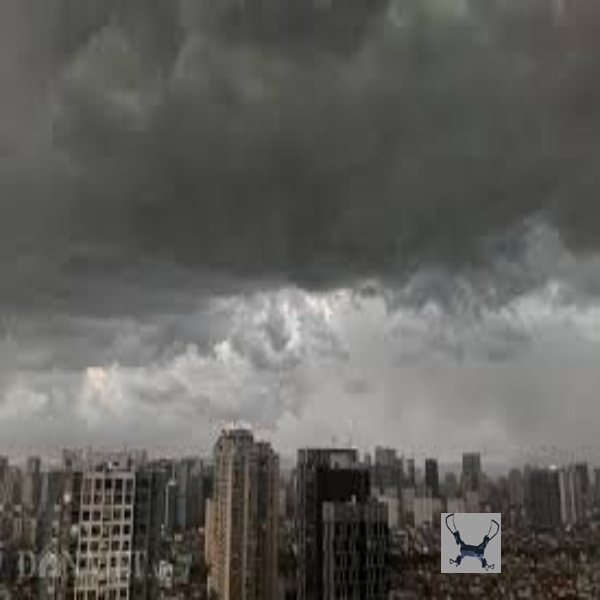drone: (441, 514, 501, 572)
